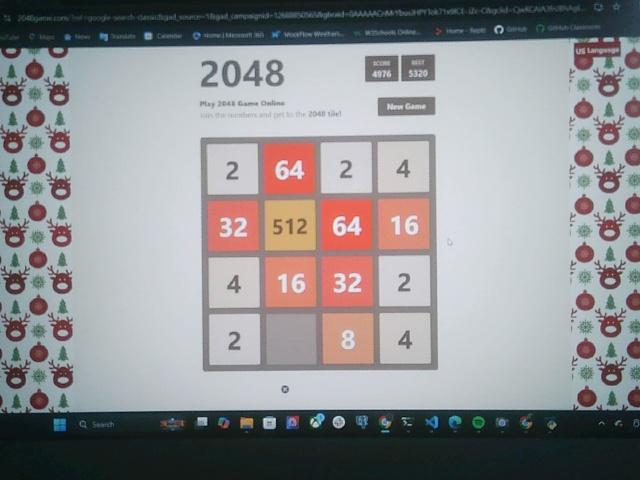board: (202, 137, 438, 371)
tile: (378, 141, 430, 193), (207, 199, 259, 251), (209, 257, 261, 309), (321, 256, 373, 308), (263, 143, 315, 194), (209, 313, 261, 364), (379, 313, 432, 363), (265, 200, 316, 251), (321, 143, 373, 193), (379, 257, 431, 307), (322, 201, 373, 251), (378, 199, 429, 249), (324, 314, 374, 365), (207, 144, 257, 194), (265, 257, 316, 306)
